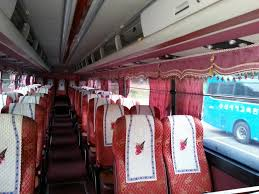seat: (119, 116, 169, 193)
